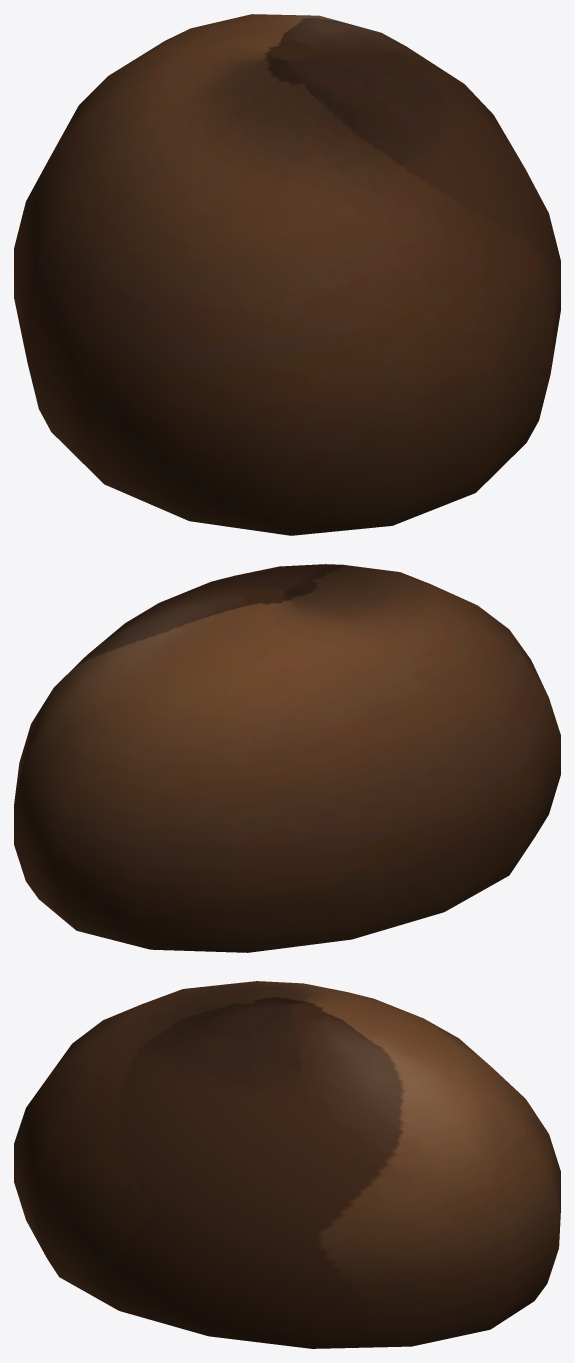
Rendered from GoombaDerPie.obj.
3 views of the same model, one above another, from view 1: azimuth 30°, elevation 25°; view 2: azimuth 150°, elevation 25°; view 3: azimuth 270°, elevation 25° (orthographic). The views are drawn at different scales.
Visible parts, largest first — view 1: polySurface2; view 2: polySurface2; view 3: polySurface2.
Boxes of the visible parts, x1,y1,x2,y2 form: polySurface2: [14, 14, 560, 535]; polySurface2: [14, 564, 560, 952]; polySurface2: [14, 981, 560, 1348].
Size of the model in its own units: 0.1911 by 0.1201 by 0.2309.
Materials: 1 (1 with a texture image).
